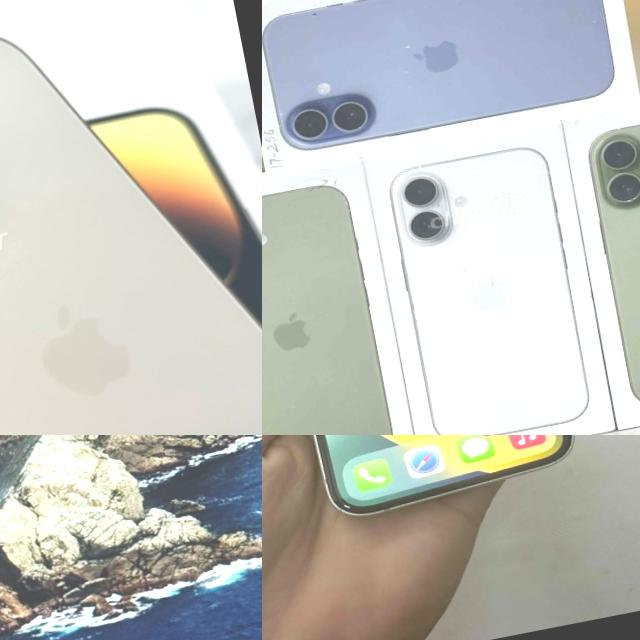gen_12_13: (262, 435, 582, 519)
gen_14: (0, 0, 262, 435)
gen_17: (378, 132, 609, 435), (262, 0, 623, 157), (262, 174, 405, 435), (579, 92, 640, 417)
